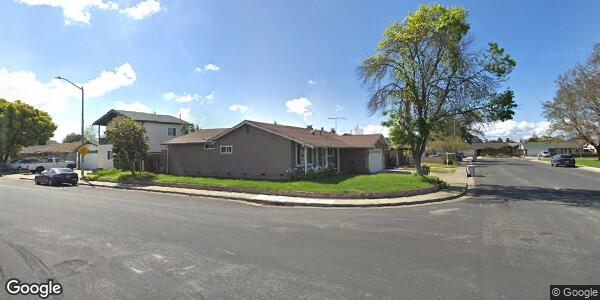Steel_Pole: (53, 75, 89, 164)
